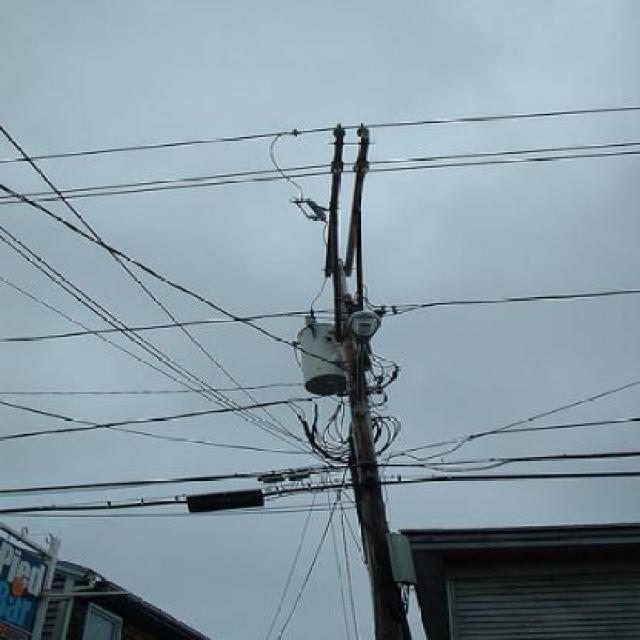pole: (260, 97, 486, 626)
